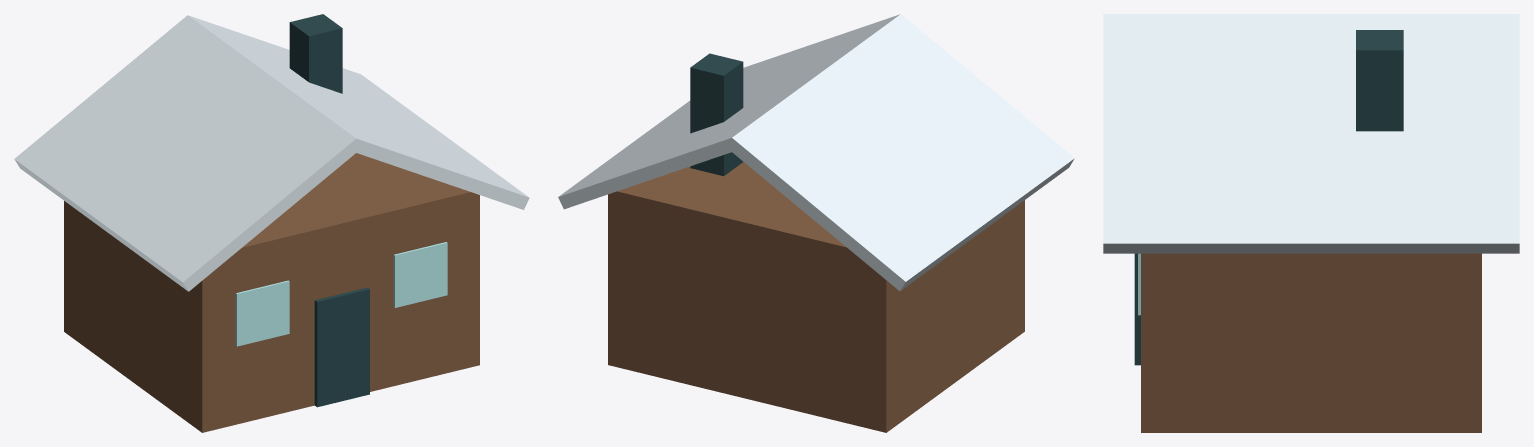
The model's file is alpine-cabin.glb.
3 renders of one model, left to right at view 1: azimuth 30°, elevation 25°; view 2: azimuth 150°, elevation 25°; view 3: azimuth 270°, elevation 25°, orthographic. The views are drawn at different scales.
Parts seen in each view (by area): view 1: Cabin body, Snow roof, Snow roof.001, Cabin door, Chimney, Cabin window, Cabin window.001; view 2: Cabin body, Snow roof, Snow roof.001, Chimney; view 3: Snow roof.001, Cabin body, Chimney, Cabin door.
Boxes of the visible parts, bbox=[...] form: Cabin body: bbox=[64, 153, 479, 432]; Snow roof: bbox=[14, 15, 361, 291]; Snow roof.001: bbox=[188, 15, 529, 209]; Cabin door: bbox=[314, 287, 369, 407]; Chimney: bbox=[289, 14, 342, 93]; Cabin window: bbox=[235, 280, 289, 346]; Cabin window.001: bbox=[393, 242, 447, 307]; Cabin body: bbox=[608, 162, 1024, 432]; Snow roof: bbox=[726, 14, 1074, 290]; Snow roof.001: bbox=[558, 14, 899, 209]; Chimney: bbox=[690, 53, 743, 176]; Snow roof.001: bbox=[1103, 14, 1519, 253]; Cabin body: bbox=[1141, 253, 1481, 432]; Chimney: bbox=[1356, 30, 1403, 131]; Cabin door: bbox=[1134, 253, 1140, 365].
Bounding box in the file's own units: 7.24 × 5.7 × 6.1.
